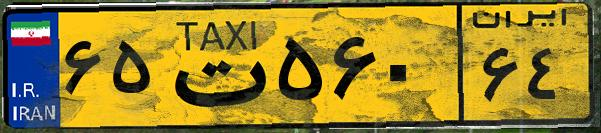0: (385, 28, 445, 110)
4: (525, 38, 570, 115)
5: (270, 28, 330, 110), (110, 28, 158, 98)
6: (330, 28, 385, 110), (57, 26, 110, 100), (475, 38, 525, 113)
ت: (158, 12, 270, 120)
